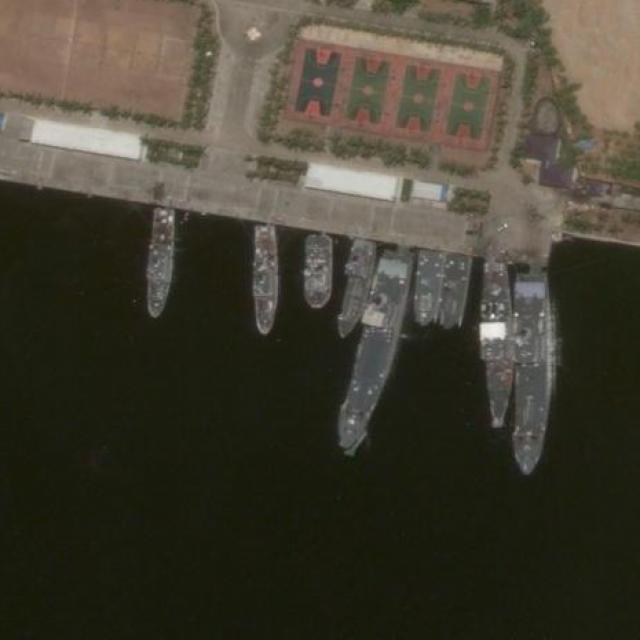Landing: (328, 245, 420, 461), (511, 277, 553, 475), (479, 257, 513, 429), (329, 236, 378, 342)
Other Warship: (143, 209, 179, 321), (410, 249, 446, 329), (253, 226, 278, 336), (439, 254, 471, 330), (306, 233, 330, 309)
